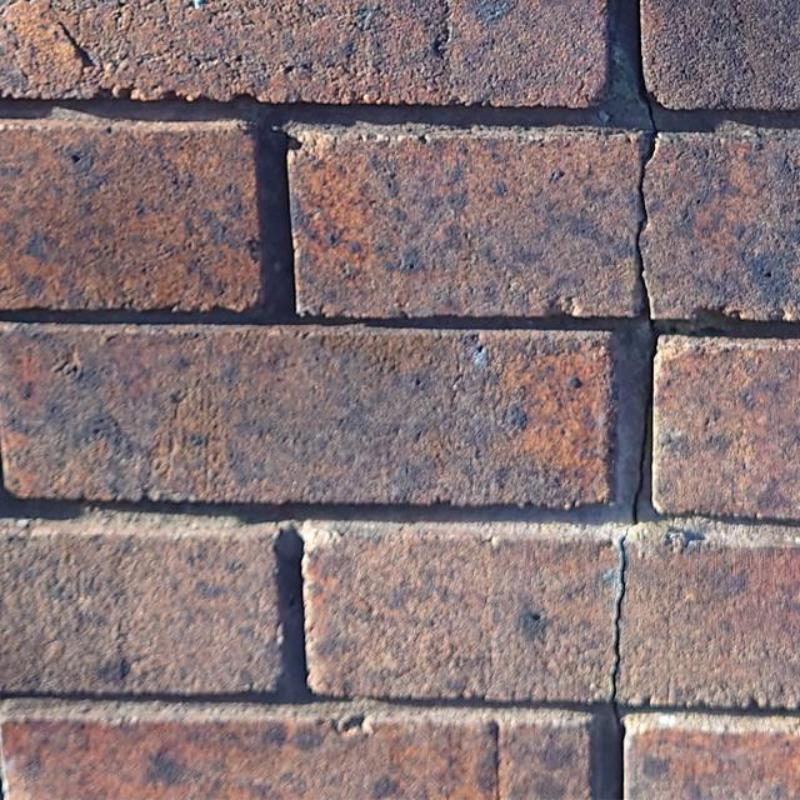pothole: (633, 0, 660, 527), (609, 535, 628, 800)
